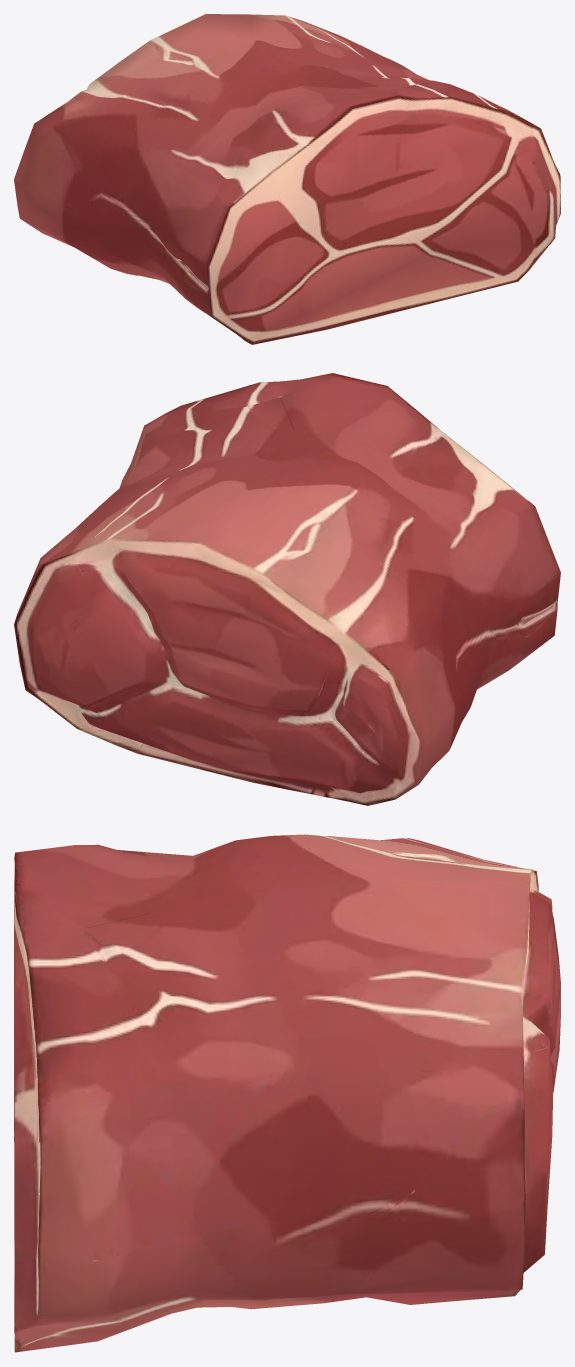
File: raw_venison.glb
3 views of the same model, one above another, from view 1: azimuth 30°, elevation 25°; view 2: azimuth 150°, elevation 25°; view 3: azimuth 270°, elevation 25° (orthographic). The views are drawn at different scales.
Visible parts, largest first — view 1: Mesh1.0; view 2: Mesh1.0; view 3: Mesh1.0.
Part boxes in pixels (x1=…): Mesh1.0: x1=14, y1=14, x2=560, y2=344; Mesh1.0: x1=14, y1=373, x2=560, y2=805; Mesh1.0: x1=14, y1=834, x2=560, y2=1352.
Size of the model in its own units: 1.91 by 0.9913 by 1.34.
Materials: 1 (1 with a texture image).
